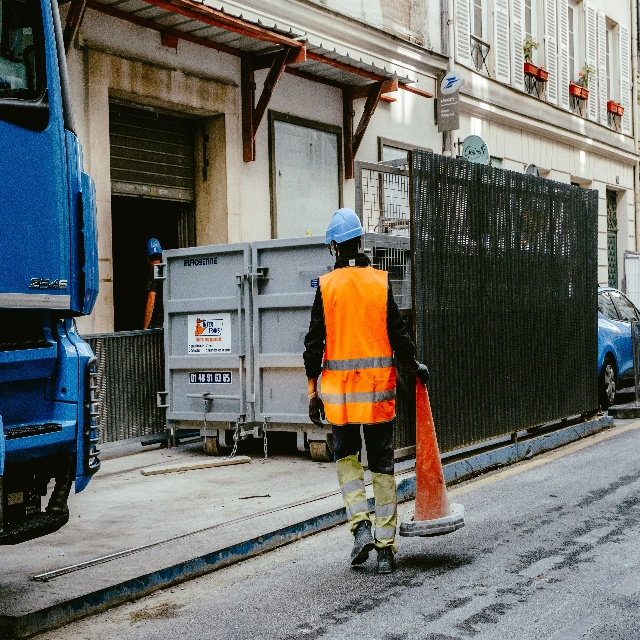Guantes: (309, 394, 326, 429), (410, 360, 429, 386)
